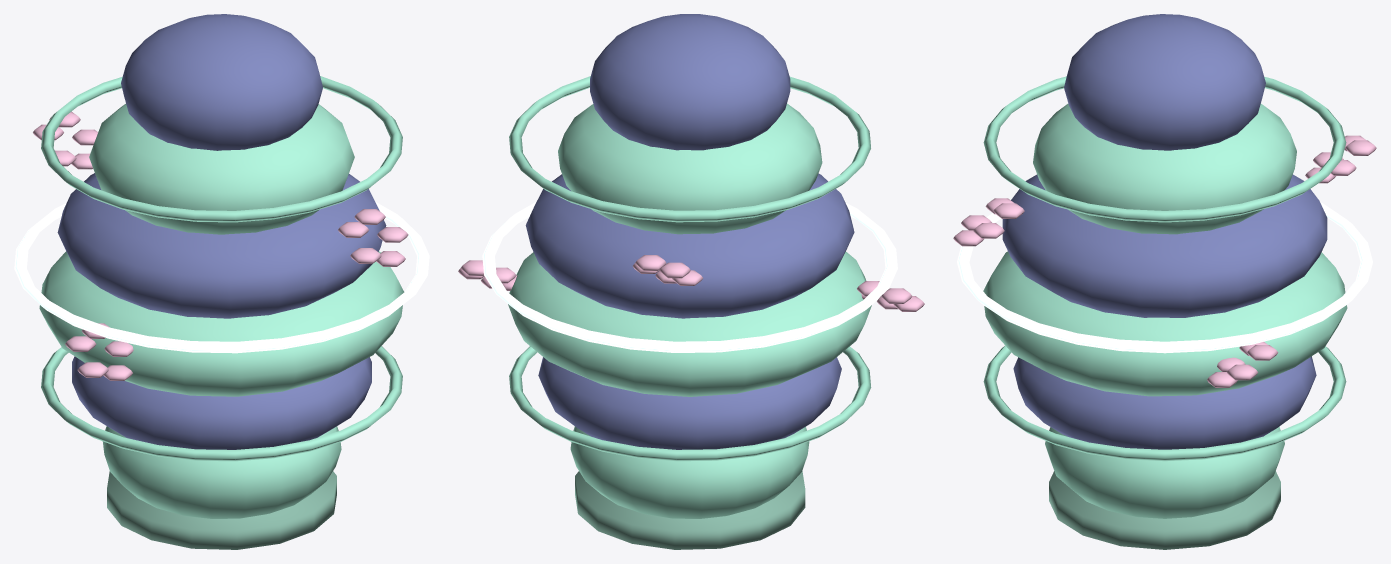
Rendered from egg_enchanted_04.glb.
The picture shows the model from 3 angles, left to right: view 1: azimuth 30°, elevation 25°; view 2: azimuth 150°, elevation 25°; view 3: azimuth 270°, elevation 25°; orthographic projection.
Parts seen in each view (by area): view 1: ball; view 2: ball; view 3: ball.
Boxes of the visible parts, x1,y1,x2,y2 form: ball: (14, 14, 429, 549); ball: (458, 14, 924, 549); ball: (953, 14, 1376, 549).
Bounding box in the file's own units: 0.8208 × 0.99 × 0.8038.
